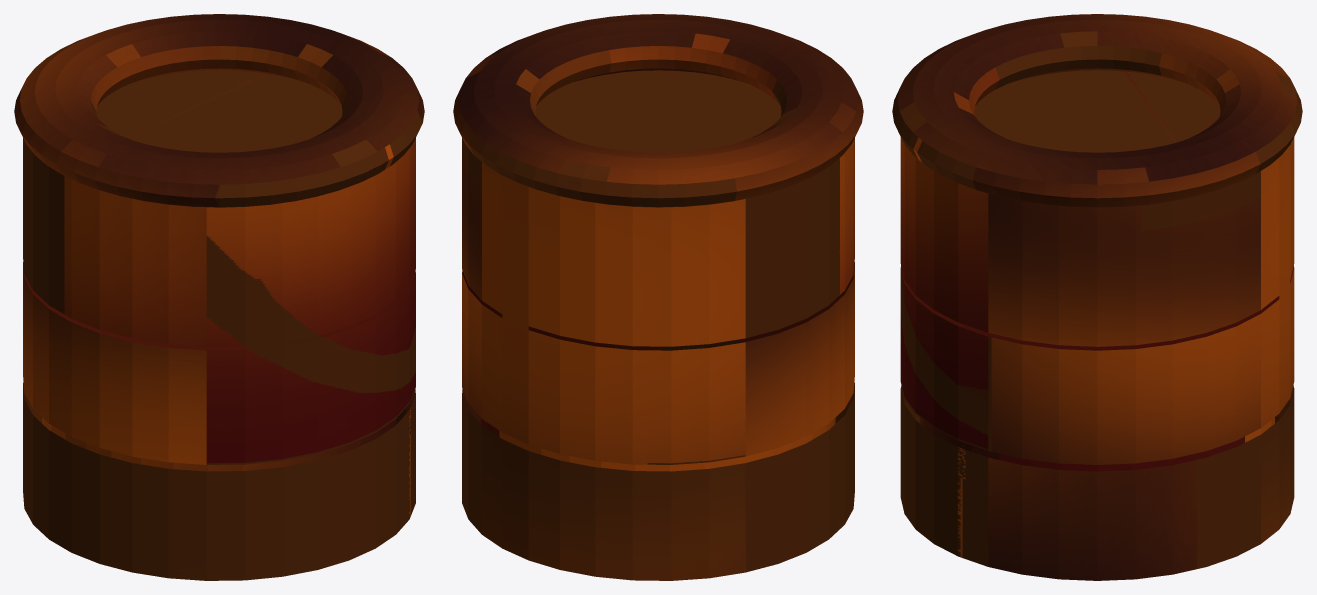
File: baril.fbx
3 views of the same model, side by side, from view 1: azimuth 30°, elevation 25°; view 2: azimuth 150°, elevation 25°; view 3: azimuth 270°, elevation 25° (orthographic).
Visible parts, largest first — view 1: Torus; view 2: Torus; view 3: Torus.
Part boxes in pixels (x1,y1,x2,y2): Torus: (14,14,424,580); Torus: (453,14,863,580); Torus: (892,14,1302,580).
Bounding box in the file's own units: 383 × 421 × 383.
Materials: 2 (2 with a texture image).
